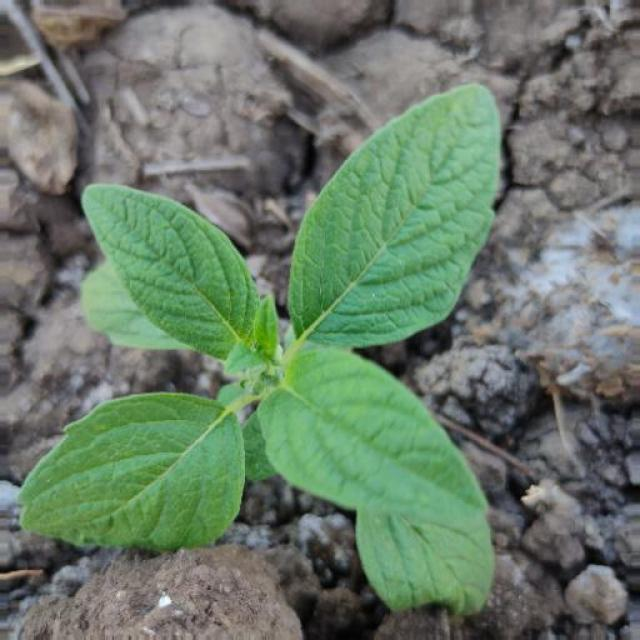crop: (1, 56, 512, 640)
